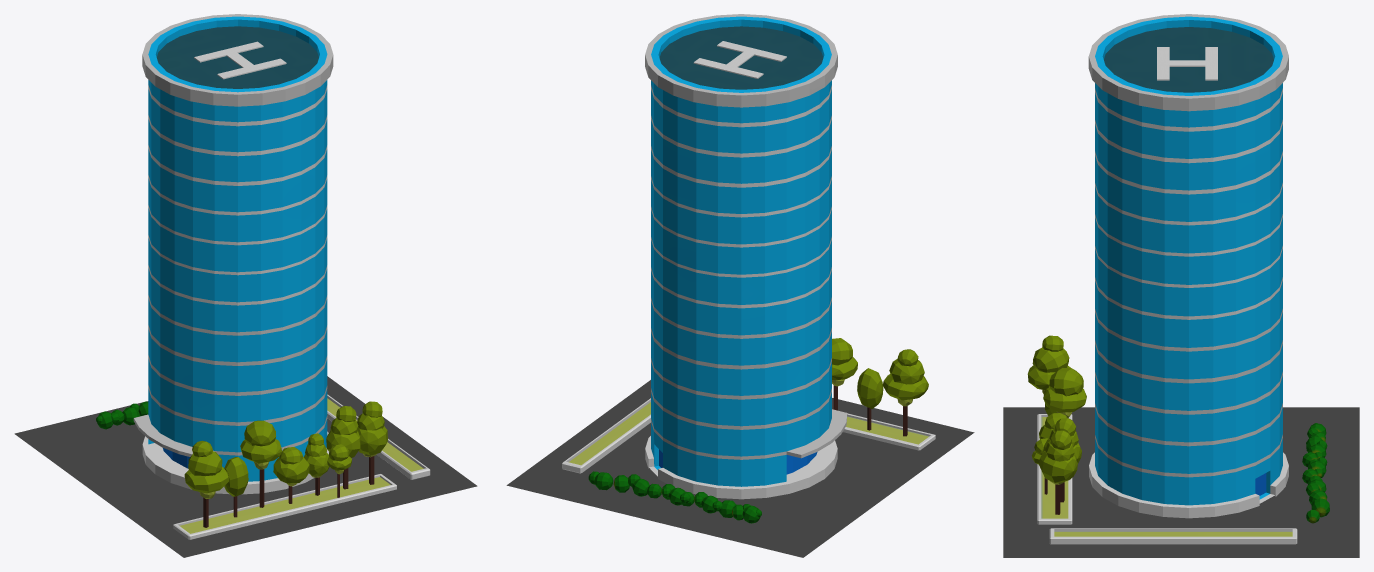
File: skyscraper2.gltf
The picture shows the model from 3 angles, left to right: view 1: azimuth 30°, elevation 25°; view 2: azimuth 150°, elevation 25°; view 3: azimuth 270°, elevation 25°; orthographic projection. The views are drawn at different scales.
Parts seen in each view (by area): view 1: Round_Building_2.001, Plane.001, Bed_2_11.001, Tree_3_15.001, Tree_3_4_10.001, Tree_3_7_10_7.001, Tree_3_1_12_4.001, Bed_8.001, H.001, Tree_3_6_8.001, Tree_3_5_8.001, Tree_3_2_11.001 (+2 smaller); view 2: Round_Building_2.001, Plane.001, Bushes_3_7.001, Bed_8.001, Tree_3_15.001, Bed_2_11.001, H.001, Tree_3_4_10.001, Tree_3_2_11.001; view 3: Round_Building_2.001, Plane.001, Bed_8.001, Bushes_3_7.001, Tree_3_7_10_7.001, Bed_2_11.001, Tree_3_4_10.001, Tree_3_15.001, H.001, Tree_3_1_12_4.001.
Boxes of the visible parts, x1,y1,x2,y2 form: Round_Building_2.001: (133,14,333,494); Plane.001: (14,376,477,557); Bed_2_11.001: (173,474,396,539); Tree_3_15.001: (184,440,228,527); Tree_3_4_10.001: (240,420,281,507); Tree_3_7_10_7.001: (357,401,387,484); Tree_3_1_12_4.001: (326,406,360,489); Bed_8.001: (327,394,430,479); H.001: (194,41,286,79); Tree_3_6_8.001: (273,447,309,503); Tree_3_5_8.001: (304,433,329,495); Tree_3_2_11.001: (224,457,248,517); Round_Building_2.001: (645,14,847,499); Plane.001: (506,380,974,557); Bushes_3_7.001: (588,471,761,523); Bed_8.001: (562,398,650,473); Tree_3_15.001: (882,349,928,436); Bed_2_11.001: (843,413,935,450); H.001: (693,41,786,78); Tree_3_4_10.001: (832,338,857,410); Tree_3_2_11.001: (857,368,883,430); Round_Building_2.001: (1088,14,1288,518); Plane.001: (1003,407,1359,557); Bed_8.001: (1049,528,1297,544); Bushes_3_7.001: (1302,423,1329,523); Tree_3_7_10_7.001: (1039,430,1077,514); Bed_2_11.001: (1037,414,1072,524); Tree_3_4_10.001: (1043,368,1086,417); Tree_3_15.001: (1027,335,1071,394); H.001: (1157,47,1217,80); Tree_3_1_12_4.001: (1043,418,1081,502).
Size of the model in its own units: 20 by 27.14 by 20.
2 materials, 1 textured.
